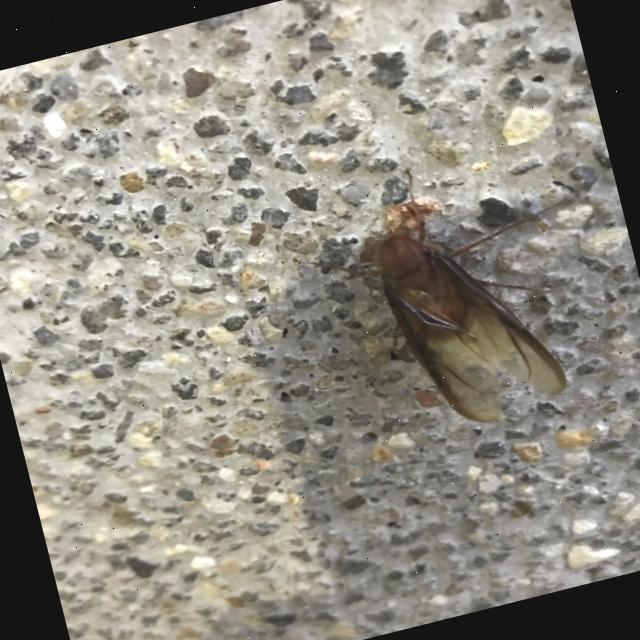Alive-Male-Alate: (277, 132, 615, 460)
